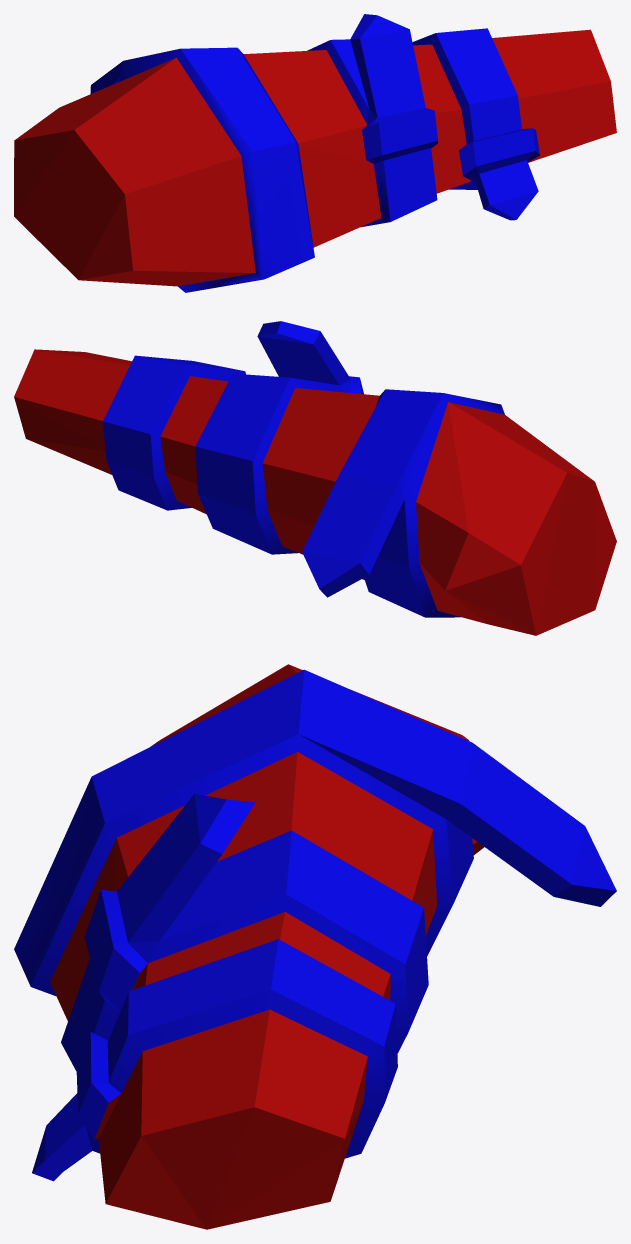
The model's file is Chr_ArmLowerLeft_Male_Static_02.fbx.
3 views of the same model, one above another, from view 1: azimuth 30°, elevation 25°; view 2: azimuth 150°, elevation 25°; view 3: azimuth 270°, elevation 25° (orthographic). The views are drawn at different scales.
Visible parts, largest first — view 1: Chr_ArmLowerLeft_Male_02; view 2: Chr_ArmLowerLeft_Male_02; view 3: Chr_ArmLowerLeft_Male_02.
Boxes of the visible parts, <box> form: Chr_ArmLowerLeft_Male_02: <box>14,14,616,292</box>; Chr_ArmLowerLeft_Male_02: <box>14,321,616,635</box>; Chr_ArmLowerLeft_Male_02: <box>14,664,616,1229</box>.
Bounding box in the file's own units: 28.96 × 12.17 × 17.2.
